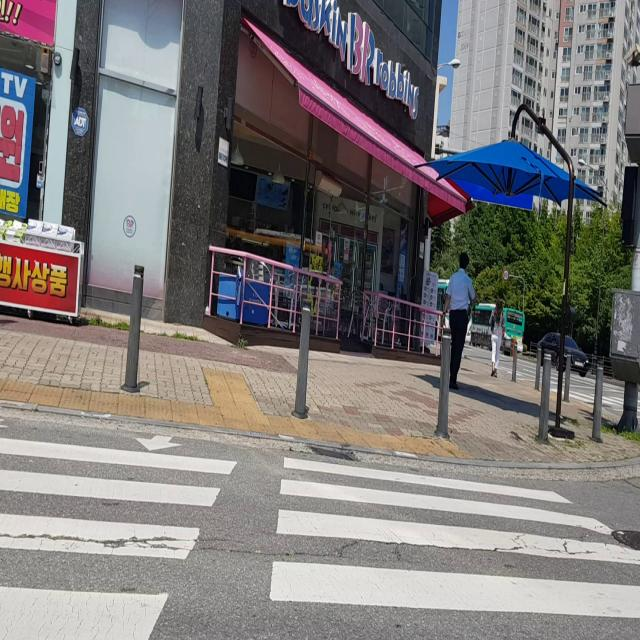횡단보도: (1, 430, 640, 640)
